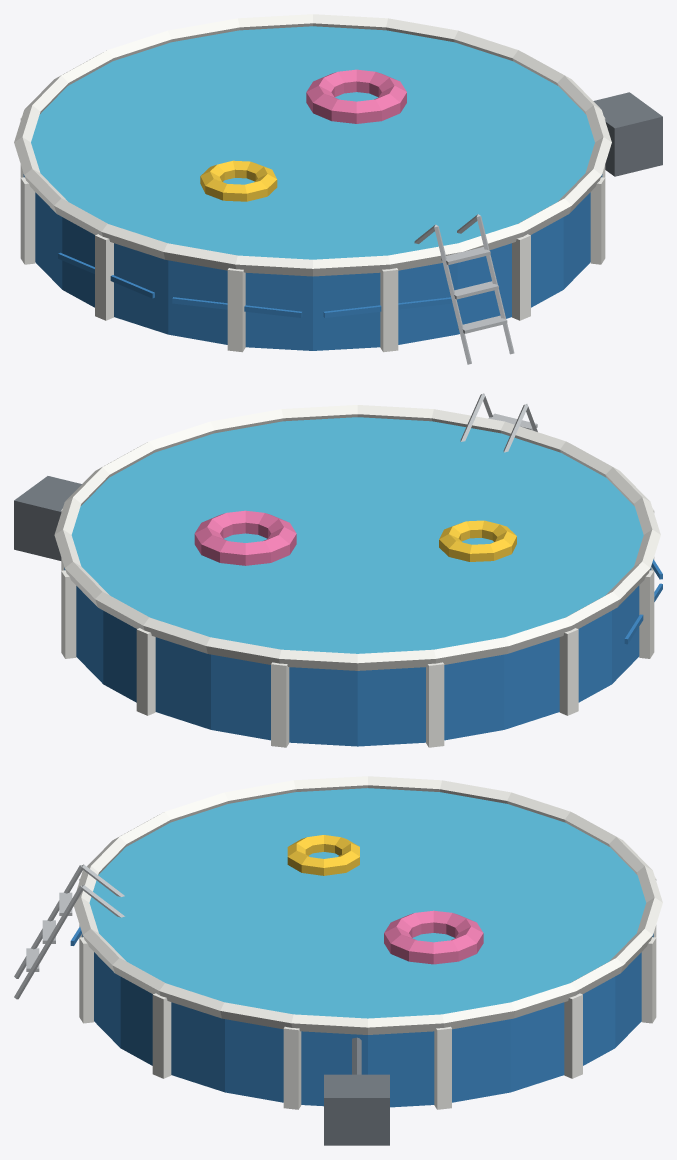
The model's file is pool-above.glb.
The picture shows the model from 3 angles, top to bottom: view 1: azimuth 30°, elevation 25°; view 2: azimuth 150°, elevation 25°; view 3: azimuth 270°, elevation 25°; orthographic projection. The views are drawn at different scales.
Visible parts, largest first — view 1: PoolAbove_Water, PoolAbove_Wall, PoolAbove_Rim, PoolAbove_Floatie, PoolAbove_Filter, PoolAbove_Ladder, PoolAbove_Floatie2; view 2: PoolAbove_Water, PoolAbove_Wall, PoolAbove_Rim, PoolAbove_Floatie, PoolAbove_Filter, PoolAbove_Floatie2, PoolAbove_Ladder; view 3: PoolAbove_Water, PoolAbove_Wall, PoolAbove_Rim, PoolAbove_Filter, PoolAbove_Floatie, PoolAbove_Ladder, PoolAbove_Floatie2.
Boxes of the visible parts, x1=… form: PoolAbove_Water: x1=31, y1=26, x2=594, y2=259; PoolAbove_Wall: x1=23, y1=174, x2=602, y2=350; PoolAbove_Rim: x1=14, y1=14, x2=611, y2=352; PoolAbove_Floatie: x1=306, y1=69, x2=406, y2=123; PoolAbove_Filter: x1=593, y1=92, x2=662, y2=176; PoolAbove_Ladder: x1=414, y1=214, x2=514, y2=364; PoolAbove_Floatie2: x1=200, y1=160, x2=277, y2=201; PoolAbove_Water: x1=71, y1=417, x2=643, y2=653; PoolAbove_Wall: x1=64, y1=559, x2=662, y2=746; PoolAbove_Rim: x1=54, y1=405, x2=660, y2=747; PoolAbove_Floatie: x1=194, y1=510, x2=296, y2=565; PoolAbove_Filter: x1=14, y1=476, x2=81, y2=560; PoolAbove_Floatie2: x1=439, y1=520, x2=516, y2=561; PoolAbove_Ladder: x1=460, y1=393, x2=537, y2=452; PoolAbove_Water: x1=89, y1=788, x2=646, y2=1018; PoolAbove_Wall: x1=70, y1=927, x2=653, y2=1107; PoolAbove_Rim: x1=74, y1=776, x2=662, y2=1109; PoolAbove_Filter: x1=324, y1=1037, x2=389, y2=1145; PoolAbove_Floatie: x1=384, y1=910, x2=483, y2=964; PoolAbove_Ladder: x1=14, y1=864, x2=124, y2=999; PoolAbove_Floatie2: x1=287, y1=835, x2=359, y2=875.
Bounding box in the file's own units: 30.52 × 5.75 × 29.54.
